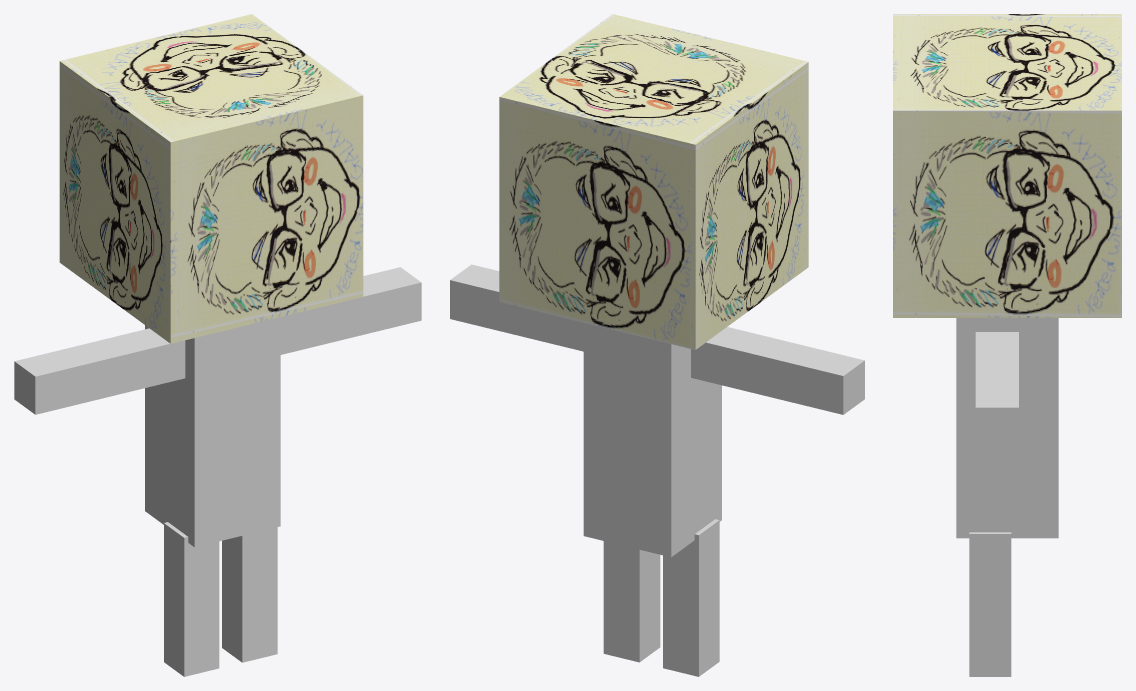
File: kenzo-fb22.gltf
3 renders of one model, left to right at view 1: azimuth 30°, elevation 25°; view 2: azimuth 150°, elevation 25°; view 3: azimuth 270°, elevation 25°, orthographic. The views are drawn at different scales.
Visible parts, largest first — view 1: Cube, 立方体, 立方体.004, 立方体.003, 立方体.001, 立方体.002; view 2: Cube, 立方体, 立方体.004, 立方体.003, 立方体.001, 立方体.002; view 3: Cube, 立方体, 立方体.001, 立方体.002.
Boxes of the visible parts, x1,y1,x2,y2 form: Cube: (59,14,363,343); 立方体: (145,317,280,547); 立方体.004: (14,328,185,414); 立方体.003: (164,522,219,676); 立方体.001: (222,527,277,662); 立方体.002: (280,267,421,354); Cube: (499,14,808,349); 立方体: (583,323,721,557); 立方体.004: (691,327,864,414); 立方体.003: (663,519,719,676); 立方体.001: (603,541,660,662); 立方体.002: (450,264,583,351); Cube: (893,14,1121,317); 立方体: (956,318,1058,538); 立方体.001: (969,532,1011,676); 立方体.002: (975,332,1018,446).
Size of the model in its own units: 4.01 by 5.7 by 2.
1 material, 1 textured.
